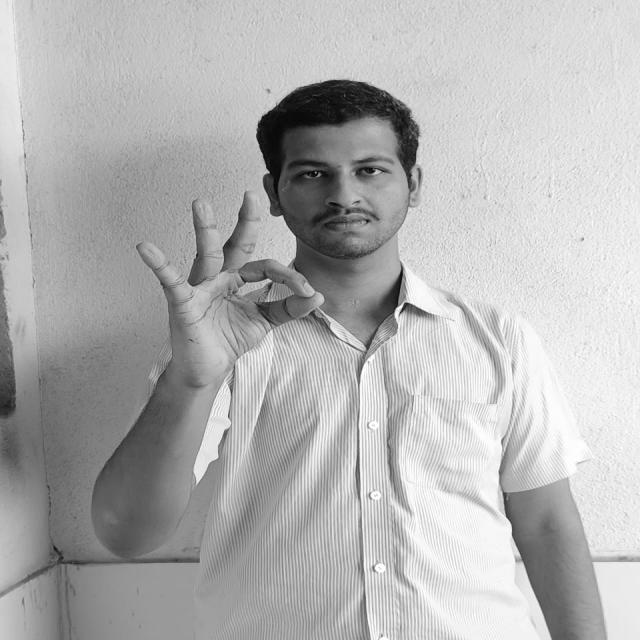Superb: (134, 189, 328, 355)
